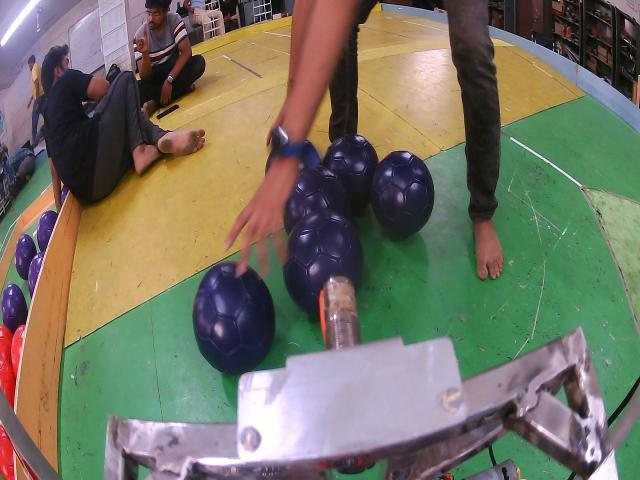jambhalya: (1, 283, 28, 333), (15, 235, 36, 280), (36, 210, 58, 252), (28, 252, 45, 298)
kaalyya: (192, 262, 275, 373), (282, 210, 362, 317), (374, 150, 435, 235), (282, 165, 350, 233), (322, 133, 380, 211)
